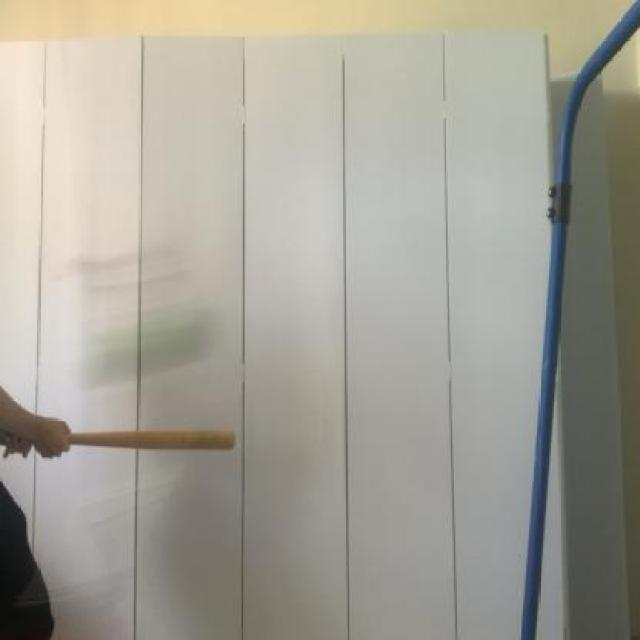baseball: (72, 295, 228, 407)
